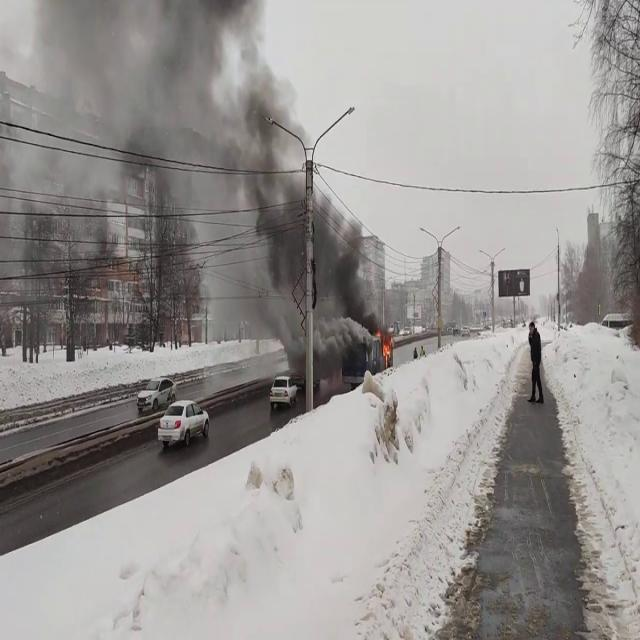Fire: (378, 325, 394, 367)
Smoke: (153, 1, 381, 362), (0, 0, 246, 258)
